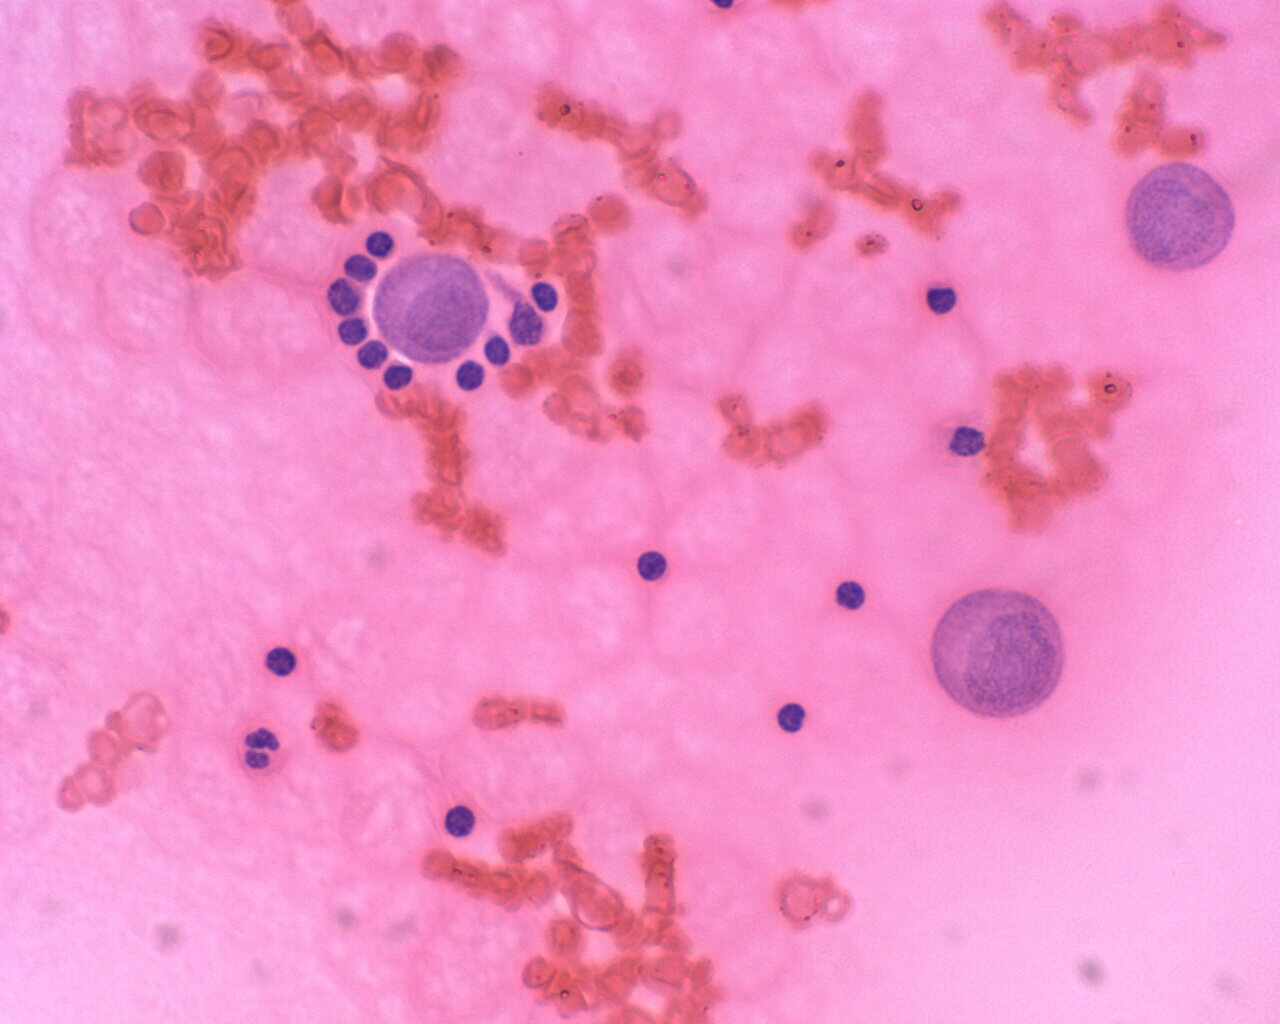ab: (933, 583, 1067, 719), (1122, 150, 1232, 284), (370, 250, 490, 367)
lymph: (438, 797, 490, 847), (827, 573, 871, 623), (632, 546, 675, 594), (772, 694, 813, 740), (263, 643, 310, 681)
